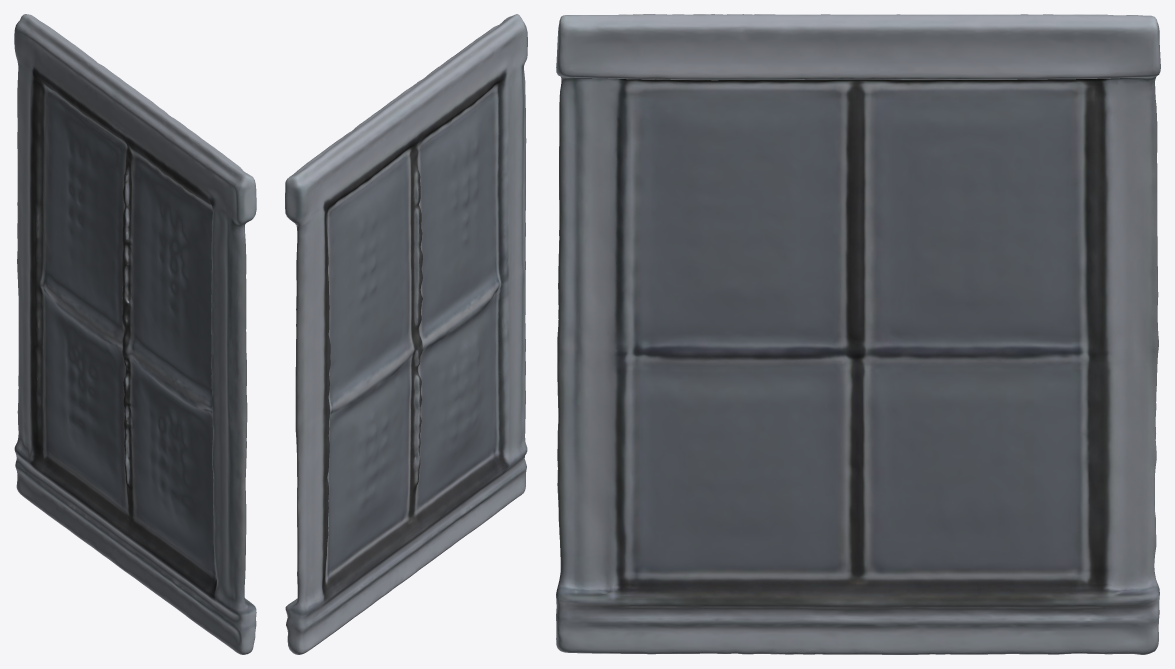
Rendered from e32809409d0b_a_fake_window__3d_a.fbx.
3 views of the same model, side by side, from view 1: azimuth 30°, elevation 25°; view 2: azimuth 150°, elevation 25°; view 3: azimuth 270°, elevation 25° (orthographic). The views are drawn at different scales.
Visible parts, largest first — view 1: high_poly; view 2: high_poly; view 3: high_poly.
Boxes of the visible parts, x1=… form: high_poly: x1=14, y1=14, x2=256, y2=654; high_poly: x1=285, y1=14, x2=527, y2=654; high_poly: x1=556, y1=14, x2=1160, y2=654.
Bounding box in the file's own units: 5.69 × 100 × 85.89.
